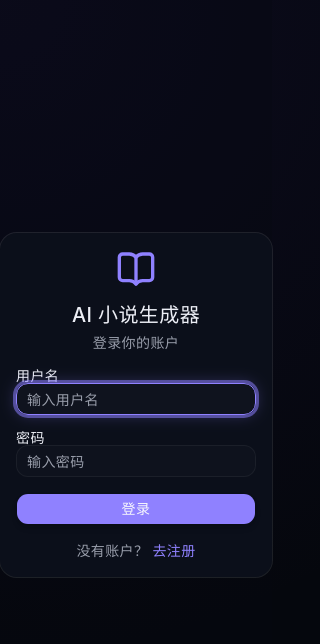
LoginPage › shows error when passwords do not match in register mode
Click the button "去注册". click: (174, 551)
box: [152,541,196,561]
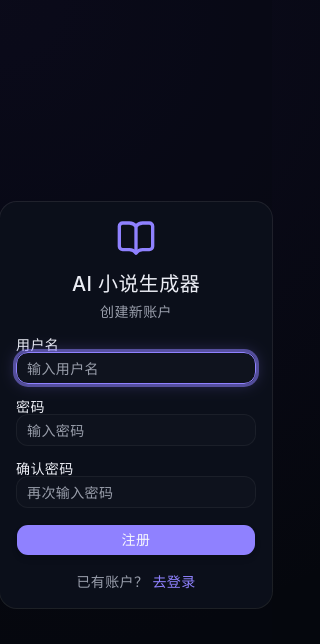
Type "testuser" into the field labelled "用户名". click: (136, 368)
box: [16,352,256,384]
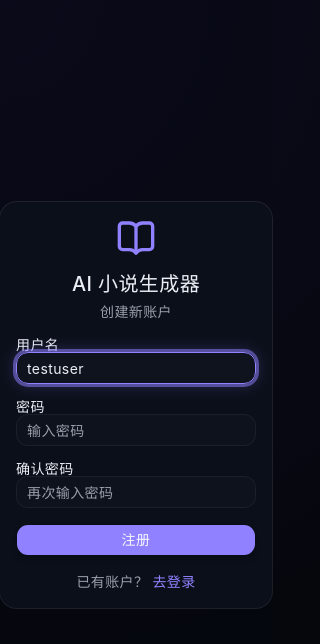
Type "password123" into the password field labelled "密码". click: (136, 430)
box: [16,414,256,446]
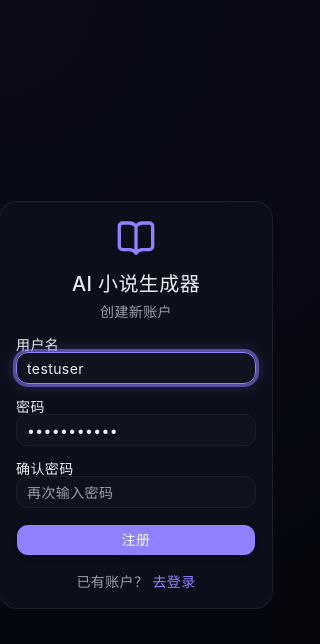
Type "different" into the password field named "确认密码". click: (136, 492)
box: [16,476,256,508]
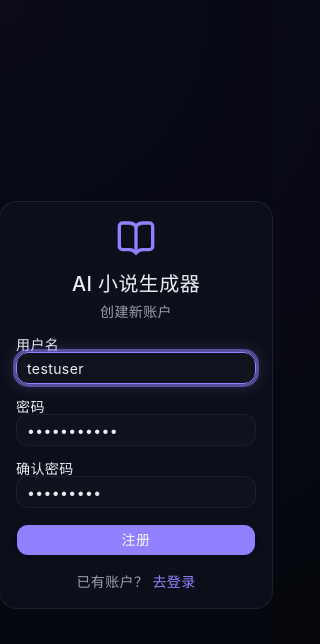
Click the button "注册". click: (136, 540)
box: [16,524,256,556]
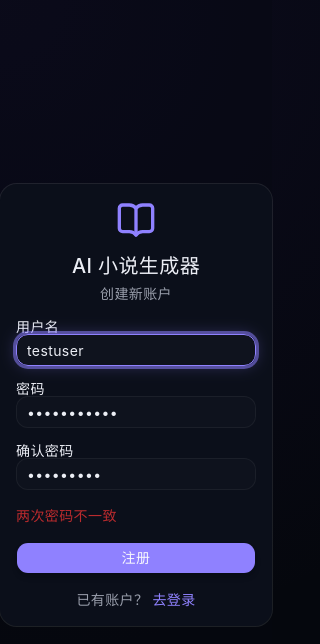
Check: the text "两次密码不一致" is shown, box [16,507,117,524]
